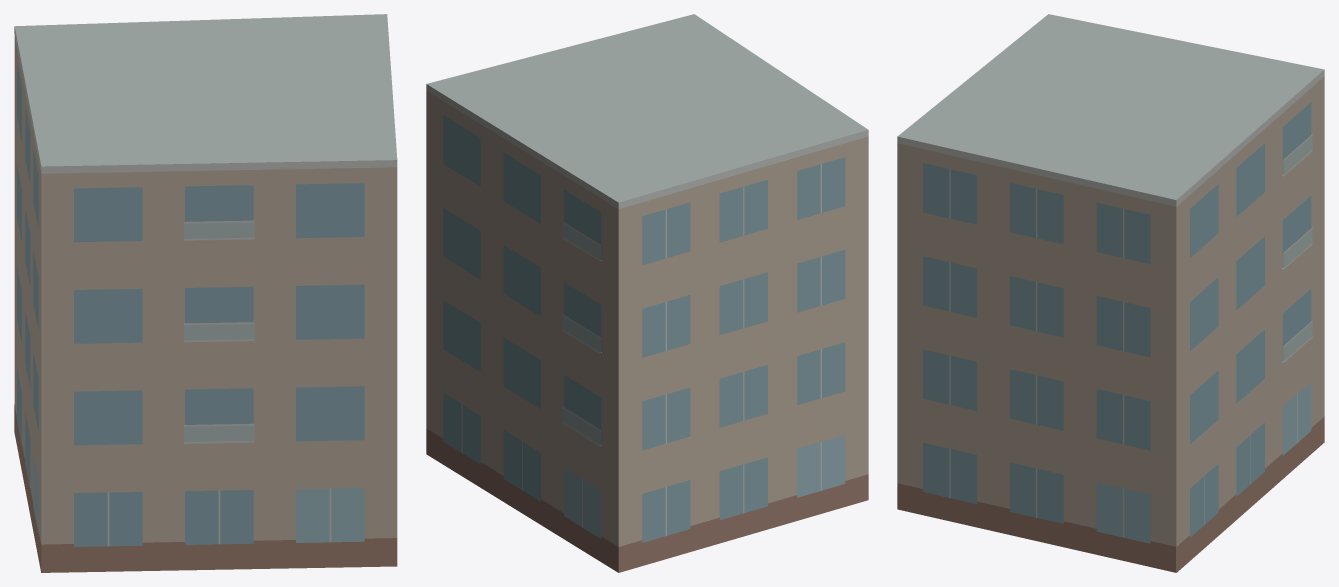
File: survey-upis-32532908.glb
The picture shows the model from 3 angles, left to right: view 1: azimuth 30°, elevation 25°; view 2: azimuth 150°, elevation 25°; view 3: azimuth 270°, elevation 25°; orthographic projection. The views are drawn at different scales.
Parts seen in each view (by area): view 1: survey-upis-32532908.tmp; view 2: survey-upis-32532908.tmp; view 3: survey-upis-32532908.tmp.
Part boxes in pixels (x1,y1,x2,y2): survey-upis-32532908.tmp: (14,14,397,572); survey-upis-32532908.tmp: (426,14,868,572); survey-upis-32532908.tmp: (897,14,1324,572).
Size of the model in its own units: 14.62 by 13.65 by 14.19.
